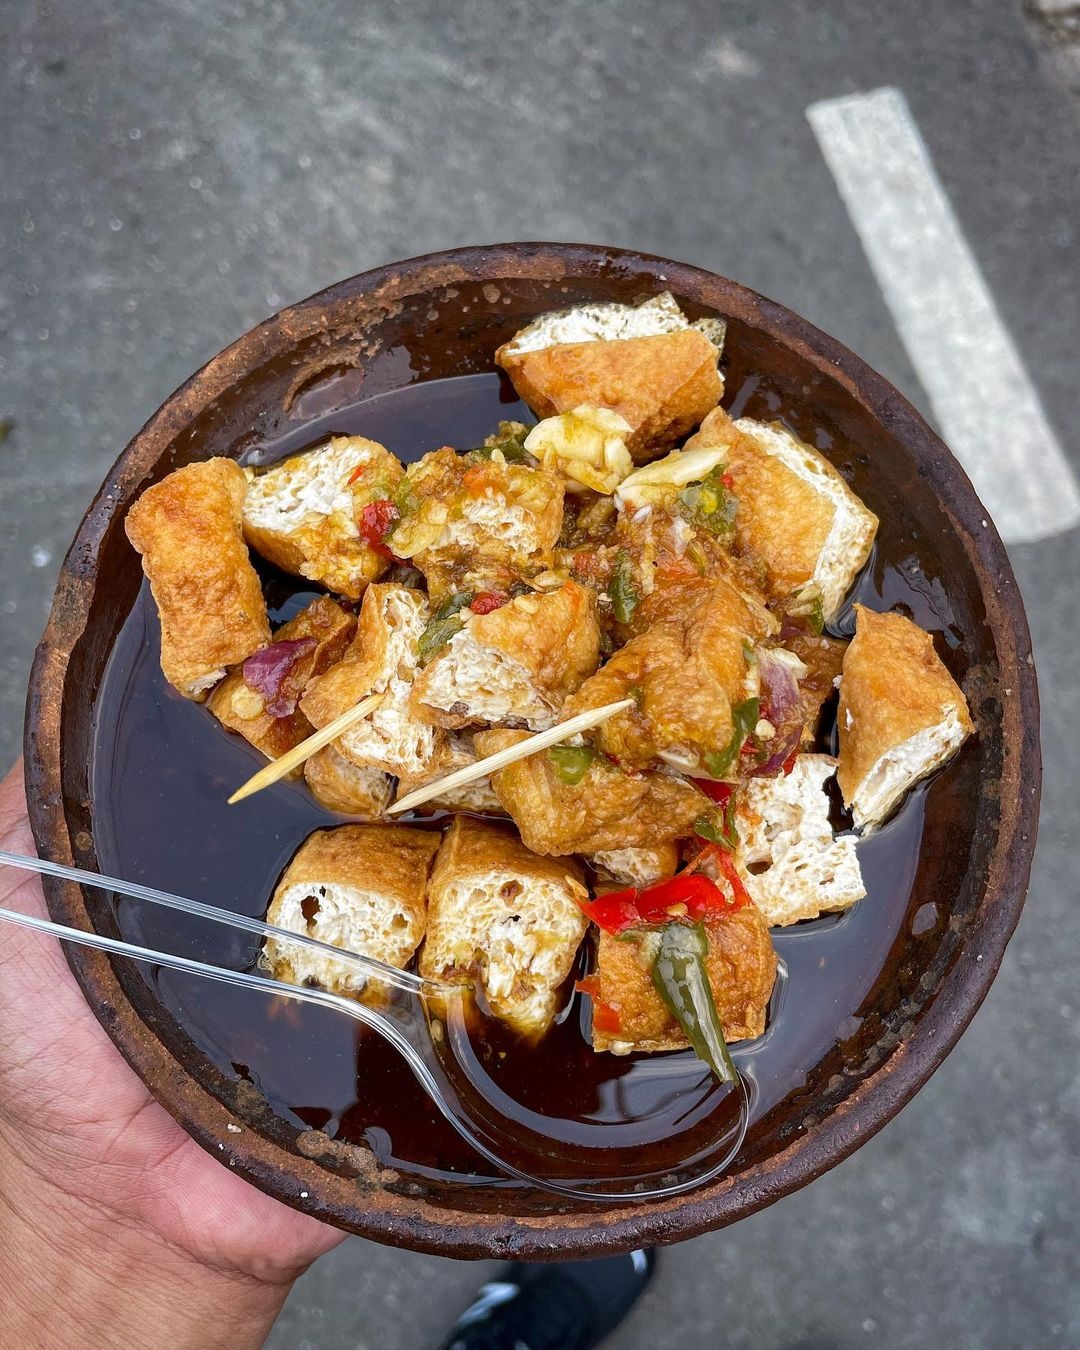tahu_gejrot: (114, 276, 972, 1171)
